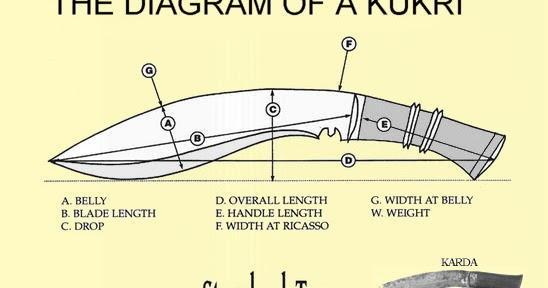faca: (49, 89, 505, 179)
